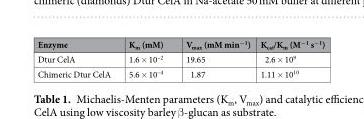table: (36, 37, 324, 79)
table column: (36, 37, 119, 79), (173, 37, 254, 79), (254, 37, 324, 79), (119, 37, 173, 79)
table column header: (36, 37, 324, 51)
table row: (36, 51, 324, 66), (36, 37, 324, 51), (36, 66, 324, 79)
